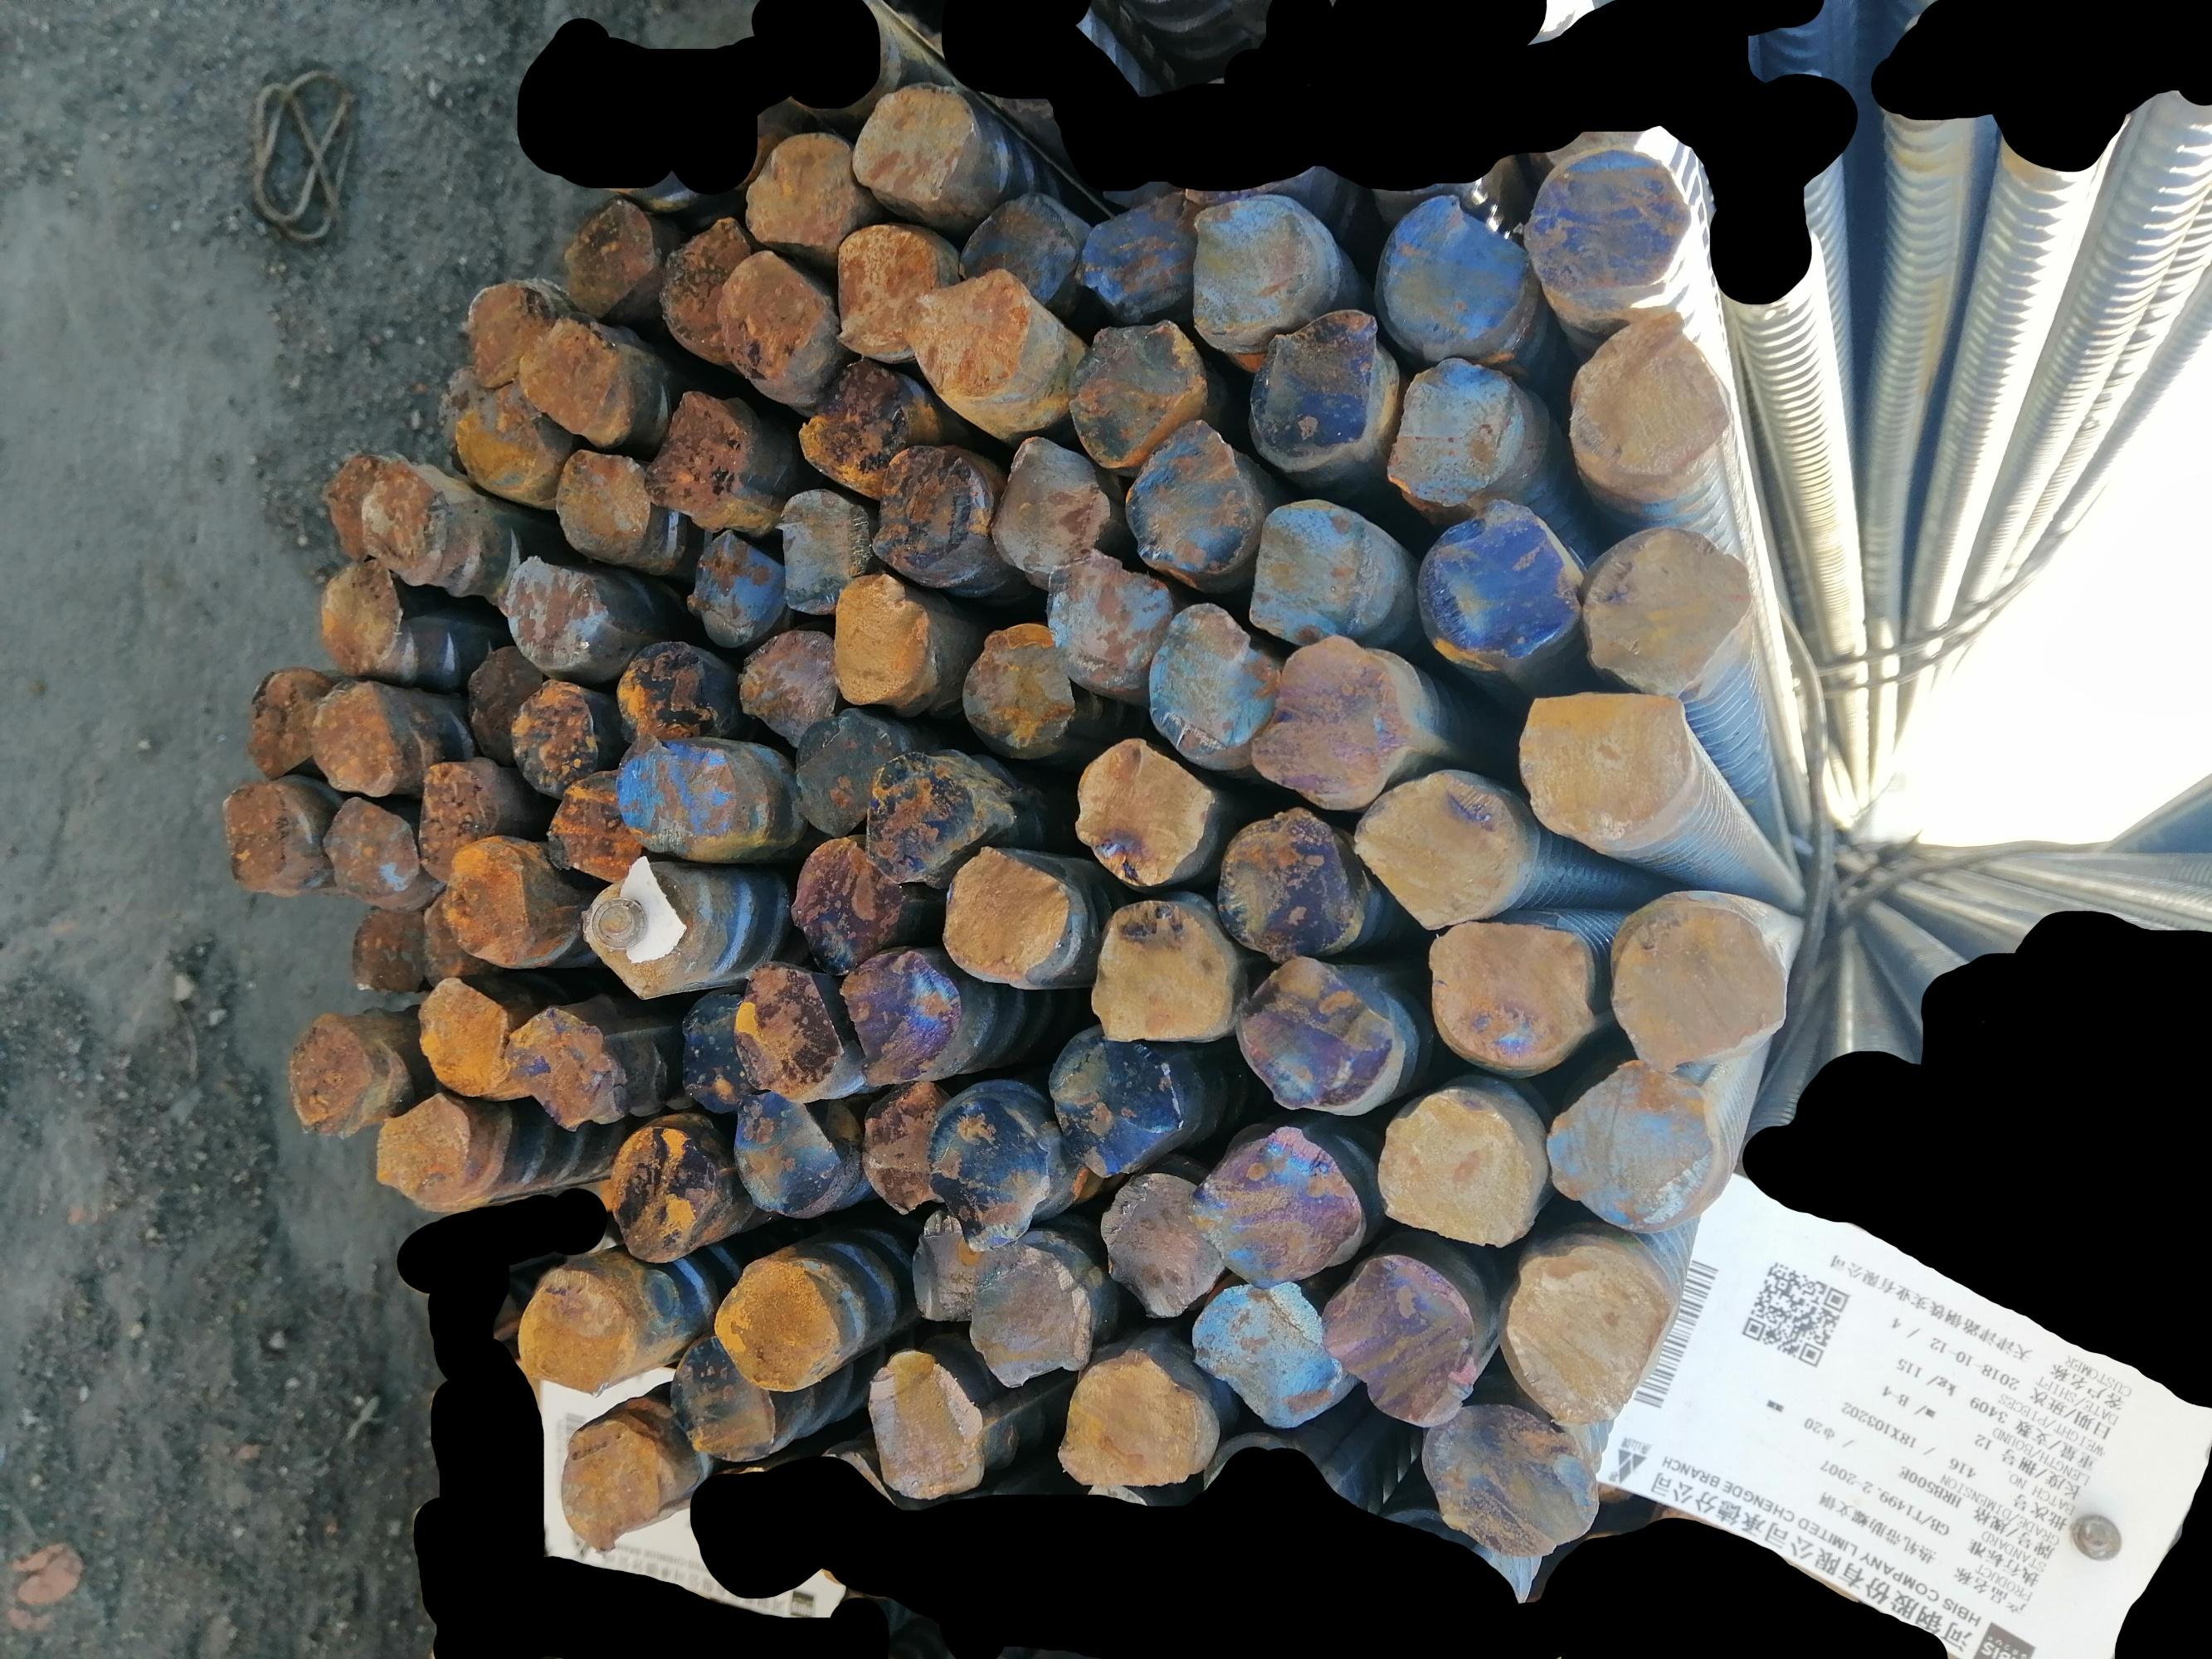bar: (1609, 885, 1787, 1068), (1572, 301, 1740, 495), (1517, 681, 1700, 850), (1579, 519, 1754, 694), (1370, 190, 1539, 364), (1229, 957, 1414, 1115), (1375, 1082, 1537, 1262), (1506, 1244, 1673, 1417), (1323, 1248, 1480, 1429), (1544, 1058, 1712, 1227), (1192, 1126, 1363, 1290), (1360, 758, 1520, 932), (1246, 638, 1421, 796), (1525, 146, 1701, 300), (1422, 918, 1590, 1073), (1424, 1399, 1598, 1547), (1056, 1337, 1217, 1497), (1419, 500, 1574, 660), (1185, 1277, 1346, 1429), (1245, 303, 1391, 469), (1377, 357, 1532, 509), (1088, 894, 1236, 1053), (1215, 796, 1353, 962), (795, 347, 947, 497), (929, 1077, 1056, 1249), (1074, 734, 1215, 889), (1067, 310, 1208, 464), (903, 270, 1049, 415), (861, 1340, 990, 1504), (1042, 1025, 1178, 1180), (1143, 596, 1269, 763), (1042, 540, 1171, 695), (1117, 413, 1243, 570), (1098, 1168, 1224, 1324), (861, 441, 995, 587), (554, 1403, 678, 1561), (962, 1229, 1089, 1382), (1184, 195, 1321, 335), (600, 1114, 722, 1269), (654, 1323, 783, 1469), (943, 845, 1077, 985), (704, 1248, 835, 1391), (1246, 495, 1374, 640), (990, 425, 1109, 579), (732, 950, 847, 1103), (861, 739, 981, 885), (962, 612, 1081, 758), (725, 1075, 844, 1222), (847, 80, 980, 211), (844, 946, 967, 1086), (514, 1256, 640, 1391), (572, 871, 694, 1007), (830, 213, 943, 359), (821, 568, 934, 711), (739, 125, 861, 256), (784, 695, 899, 833), (636, 387, 757, 516), (781, 831, 903, 957), (488, 537, 603, 667), (659, 204, 755, 359), (504, 1006, 615, 1138), (617, 742, 736, 866), (715, 247, 821, 385), (429, 833, 539, 962), (851, 1075, 950, 1213), (551, 432, 661, 554), (413, 976, 514, 1108), (539, 763, 640, 896), (455, 376, 561, 502), (284, 1009, 387, 1136), (737, 617, 844, 739), (899, 1206, 1006, 1328), (214, 777, 319, 901), (950, 192, 1074, 296), (1081, 204, 1196, 315), (777, 477, 870, 613), (612, 629, 720, 744), (359, 467, 460, 589), (364, 1091, 474, 1202), (317, 439, 415, 565), (554, 188, 655, 308), (518, 310, 615, 432), (305, 683, 411, 795), (687, 523, 784, 643), (314, 791, 420, 899), (662, 983, 748, 1117), (404, 758, 495, 880), (314, 552, 404, 674), (458, 274, 554, 389), (241, 659, 328, 777), (507, 674, 594, 789), (460, 641, 544, 756), (345, 899, 425, 1007), (406, 889, 476, 981)
